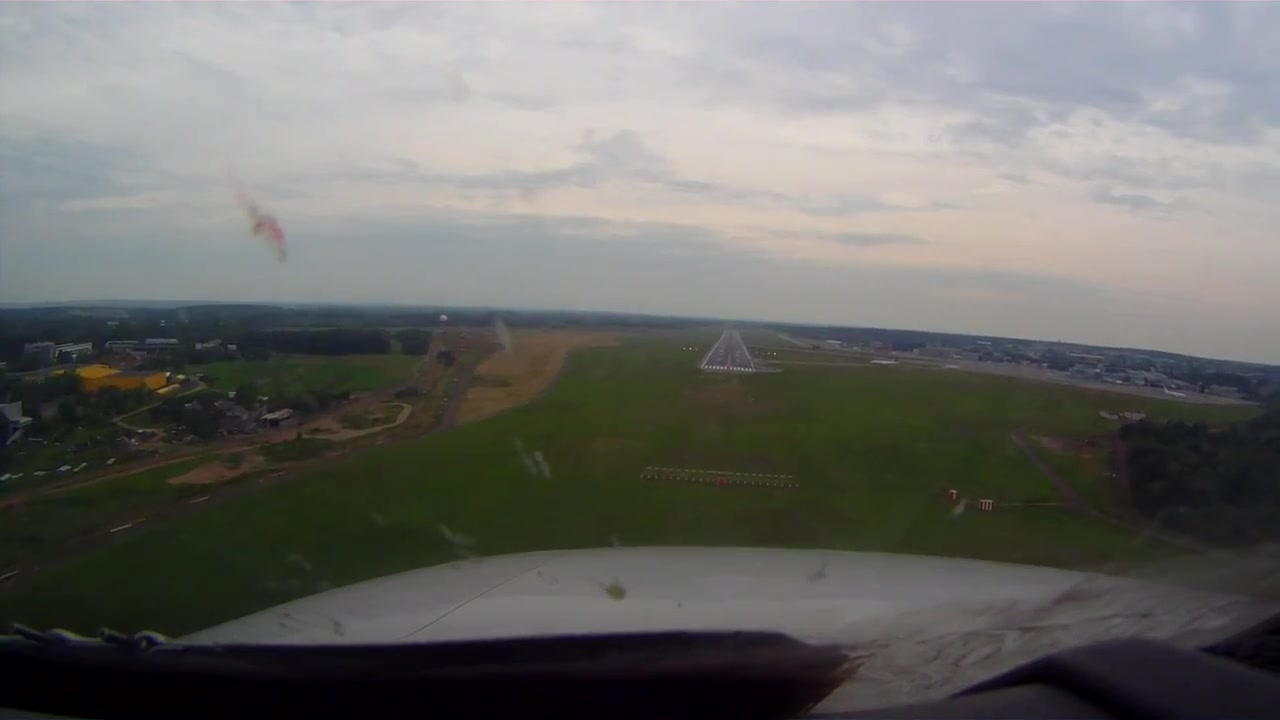entrance: (702, 364, 751, 372)
runway: (698, 332, 755, 374)
